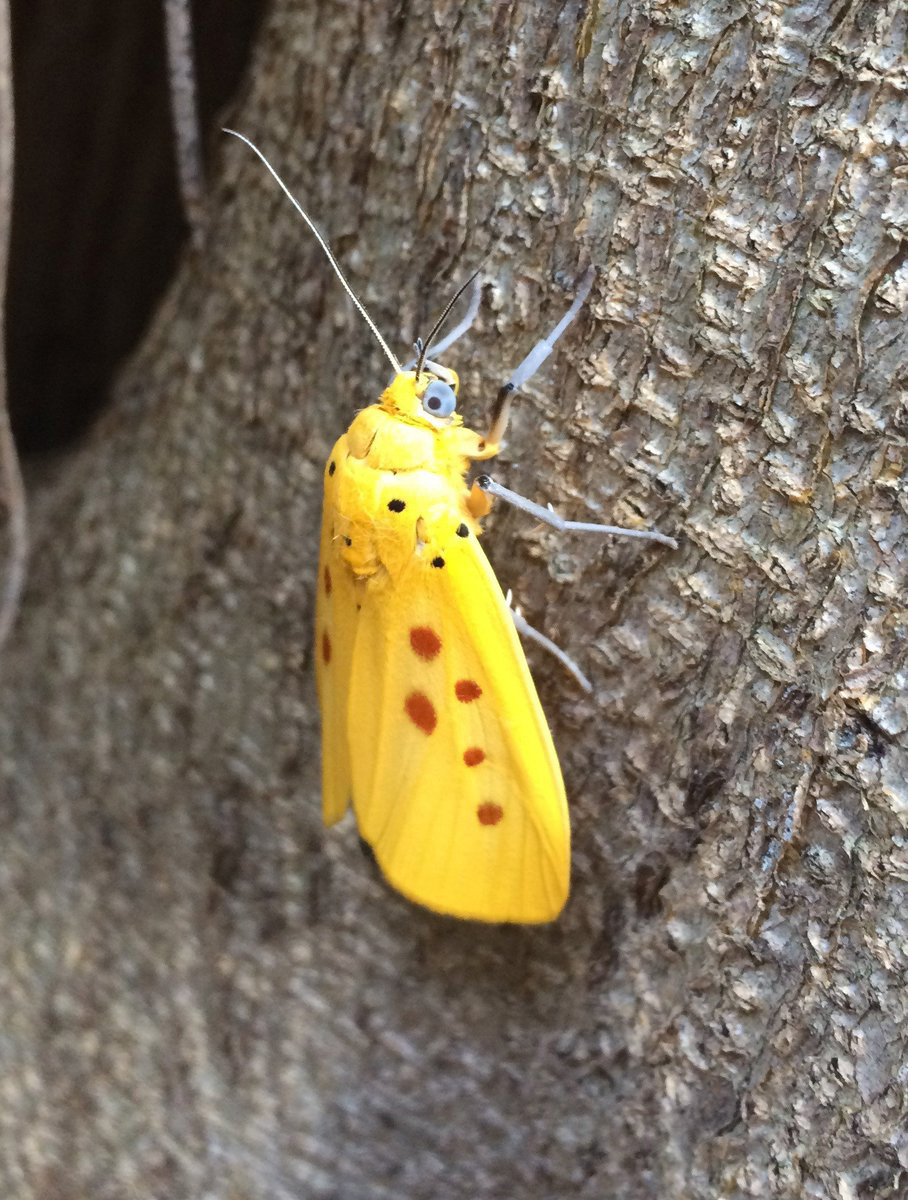Agape chloropyga: (213, 121, 697, 929)
moth: (215, 123, 699, 931)
